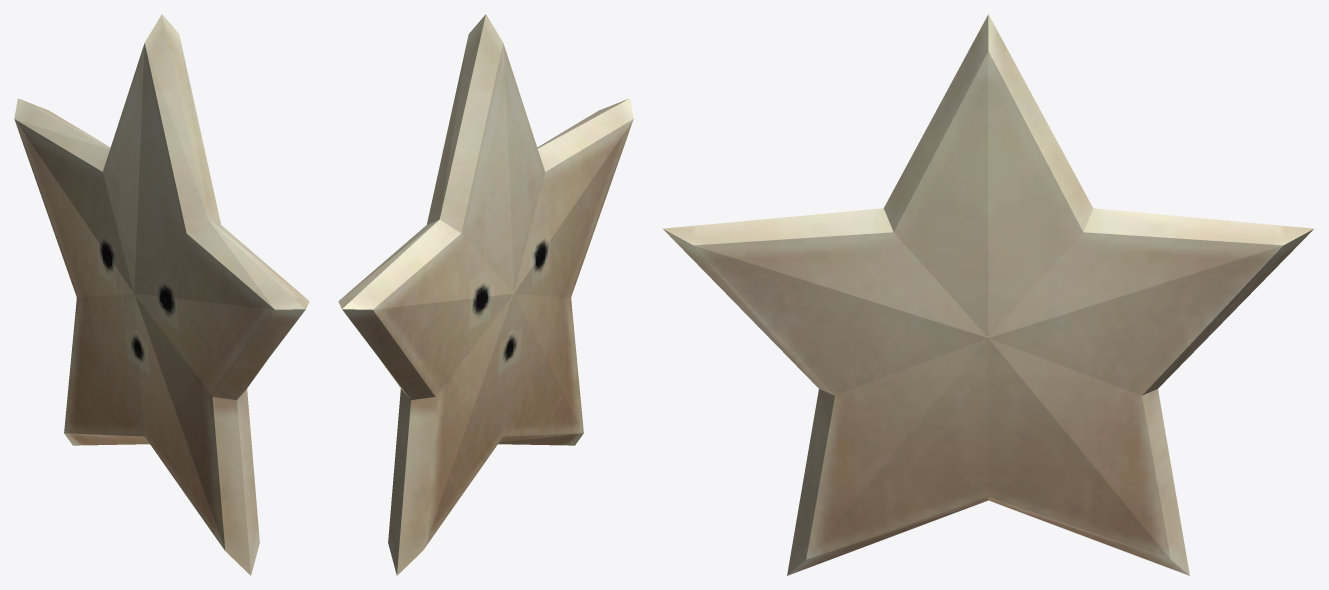
The model's file is Monkey_starMike.obj.
3 views of the same model, side by side, from view 1: azimuth 30°, elevation 25°; view 2: azimuth 150°, elevation 25°; view 3: azimuth 270°, elevation 25° (orthographic). The views are drawn at different scales.
Parts seen in each view (by area): view 1: Monkey_starMike_tri; view 2: Monkey_starMike_tri; view 3: Monkey_starMike_tri.
Part boxes in pixels (box(x1,y1,x2,y2)): Monkey_starMike_tri: box(14, 14, 309, 575); Monkey_starMike_tri: box(338, 14, 633, 575); Monkey_starMike_tri: box(663, 14, 1313, 575).
Size of the model in its own units: 0.0425 by 0.3618 by 0.3804.
1 material, 1 textured.
